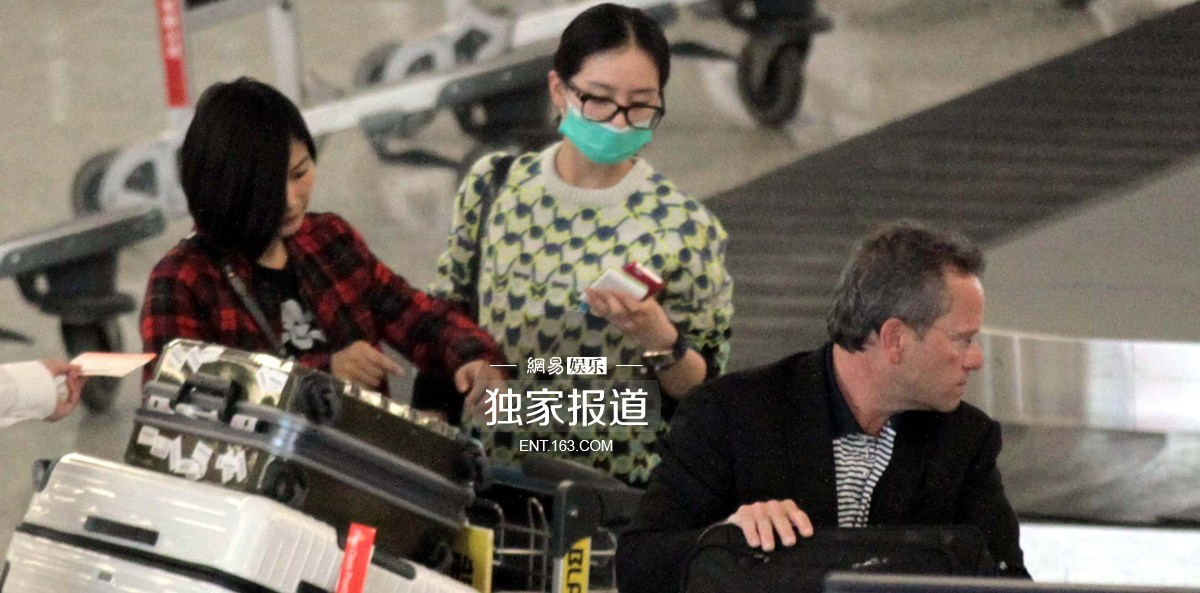face: (908, 280, 985, 410)
face_mask: (563, 52, 659, 163)
